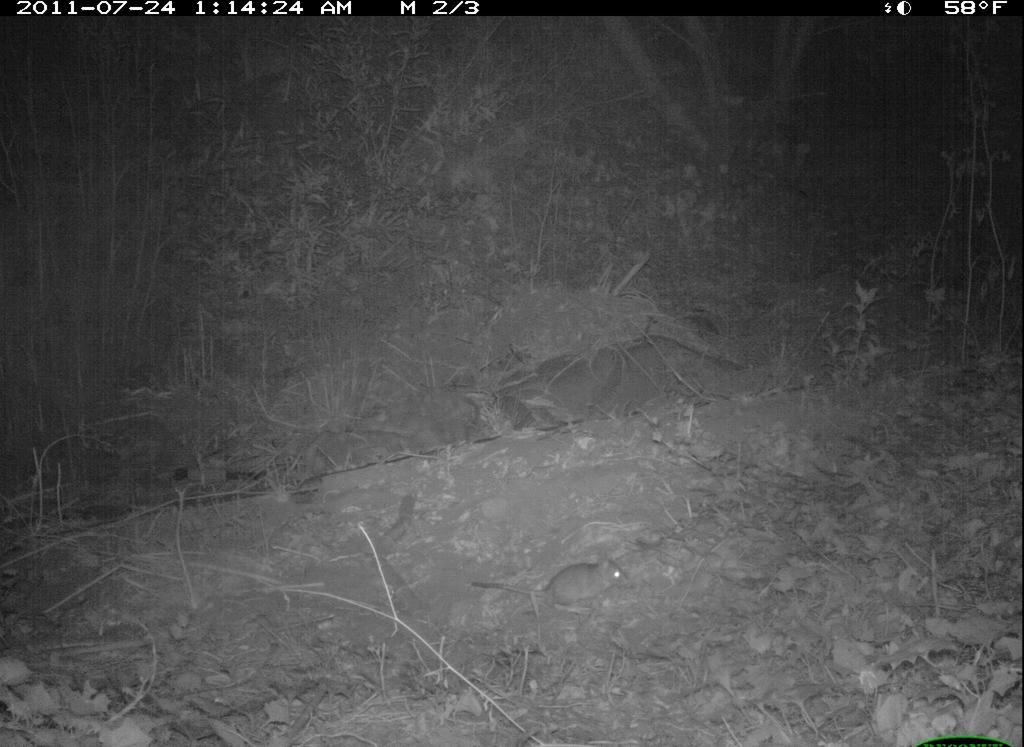rodent: (469, 547, 639, 615)
